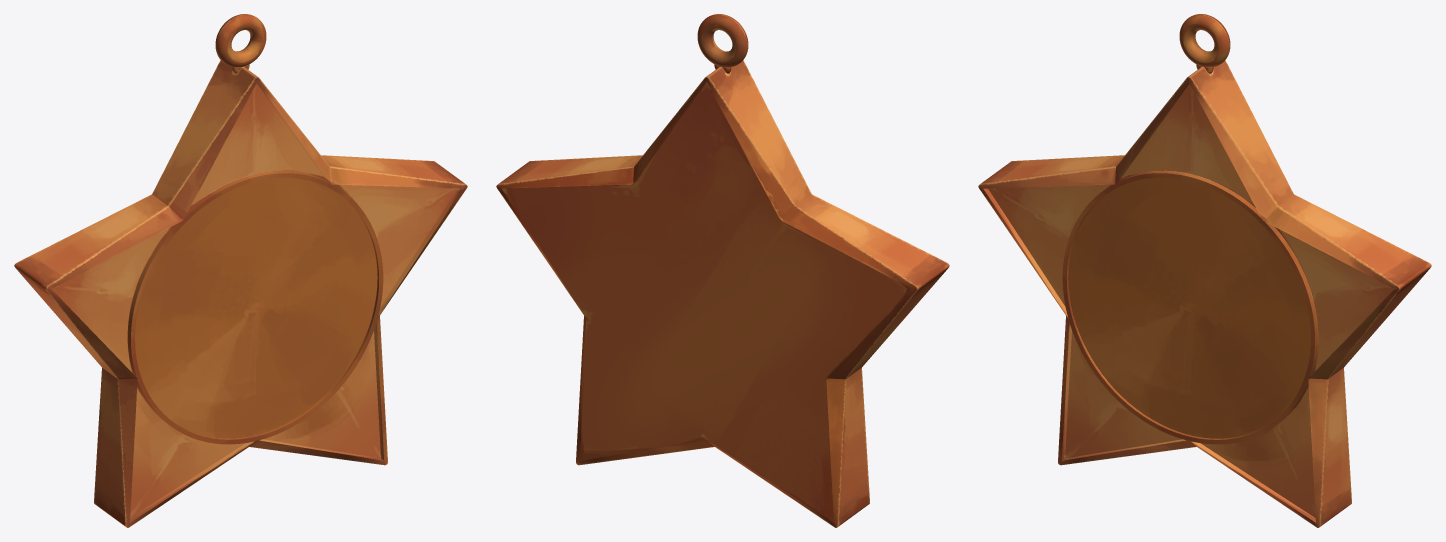
The model's file is WarMedol.obj.
3 views of the same model, side by side, from view 1: azimuth 30°, elevation 25°; view 2: azimuth 150°, elevation 25°; view 3: azimuth 330°, elevation 25° (orthographic).
Parts seen in each view (by area): view 1: ____03__4_; view 2: ____03__4_; view 3: ____03__4_.
Part boxes in pixels (x1,y1,x2,y2): ____03__4_: (14,14,467,527); ____03__4_: (496,14,949,527); ____03__4_: (978,14,1431,527).
Bounding box in the file's own units: 35.59 × 37.93 × 4.72.
